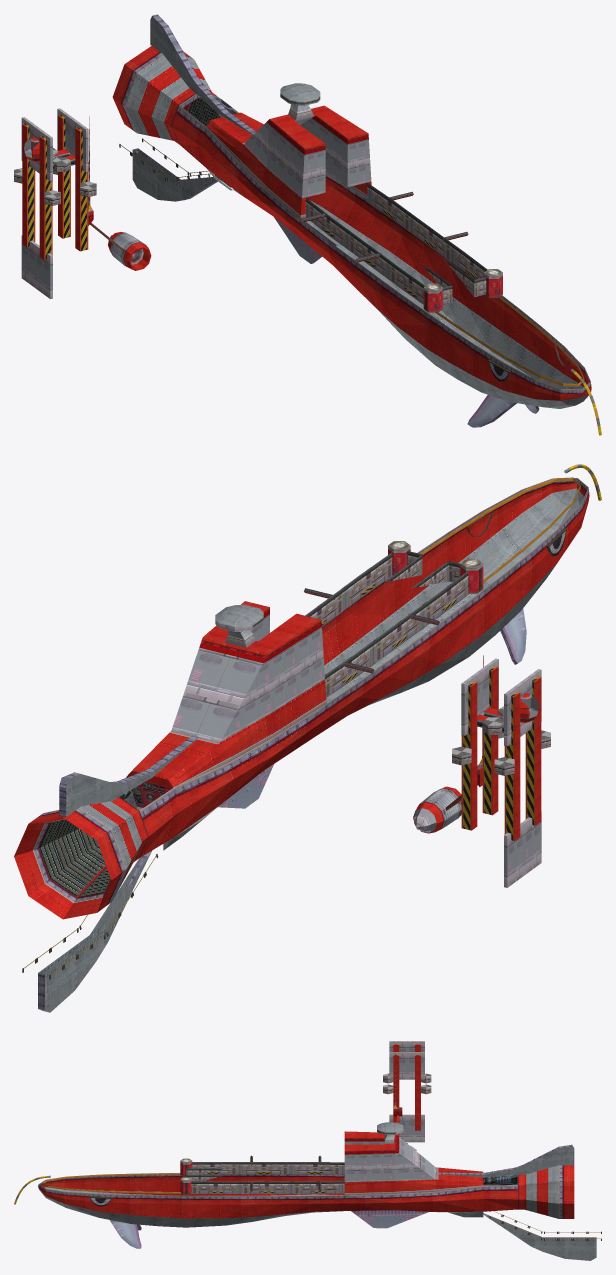
3 views of the same model, one above another, from view 1: azimuth 30°, elevation 25°; view 2: azimuth 150°, elevation 25°; view 3: azimuth 270°, elevation 25° (orthographic). The views are drawn at different scales.
Visible parts, largest first — view 1: s13_on_08_0, s13_on_08_15, s13_on_08_3, s13_on_08_11, s13_on_08_6, s13_on_08_9, s13_on_08_17, s13_on_08_5, s13_on_08_8, s13_on_08_20, s13_on_08_10, s13_on_08_7 (+1 smaller); view 2: s13_on_08_0, s13_on_08_15, s13_on_08_3, s13_on_08_11, s13_on_08_9, s13_on_08_1, s13_on_08_6, s13_on_08_5, s13_on_08_17, s13_on_08_7, s13_on_08_8, s13_on_08_10 (+1 smaller); view 3: s13_on_08_0, s13_on_08_15, s13_on_08_3, s13_on_08_11, s13_on_08_6, s13_on_08_17, s13_on_08_5, s13_on_08_8, s13_on_08_14.
Part boxes in pixels (x1,y1,x2,y2): s13_on_08_0: (22, 14, 591, 400); s13_on_08_15: (132, 16, 588, 408); s13_on_08_3: (21, 109, 371, 298); s13_on_08_11: (14, 163, 487, 304); s13_on_08_6: (88, 55, 211, 205); s13_on_08_9: (22, 114, 208, 259); s13_on_08_17: (274, 217, 539, 427); s13_on_08_5: (14, 104, 584, 386); s13_on_08_8: (88, 115, 368, 225); s13_on_08_20: (423, 275, 502, 312); s13_on_08_10: (14, 108, 96, 255); s13_on_08_7: (89, 138, 468, 262); s13_on_08_0: (14, 478, 589, 1012); s13_on_08_15: (38, 488, 584, 1012); s13_on_08_3: (126, 614, 541, 887); s13_on_08_11: (305, 551, 550, 775); s13_on_08_9: (24, 666, 540, 974); s13_on_08_1: (39, 784, 477, 897); s13_on_08_6: (49, 655, 483, 899); s13_on_08_5: (215, 477, 580, 768); s13_on_08_17: (218, 608, 526, 808); s13_on_08_7: (22, 588, 482, 979); s13_on_08_8: (199, 607, 479, 786); s13_on_08_10: (452, 658, 550, 836); s13_on_08_0: (38, 1045, 574, 1218); s13_on_08_15: (40, 1122, 596, 1260); s13_on_08_3: (344, 1042, 480, 1212); s13_on_08_11: (186, 1078, 431, 1193); s13_on_08_6: (394, 1052, 558, 1218); s13_on_08_17: (110, 1210, 428, 1248); s13_on_08_5: (43, 1077, 431, 1193); s13_on_08_8: (344, 1109, 402, 1154); s13_on_08_14: (483, 1175, 517, 1185).
Size of the model in its own units: 1156 by 859 by 2969.
21 materials, 21 textured.
